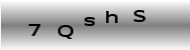7: (27, 23, 41, 37)
Q: (55, 24, 75, 40)
S: (132, 9, 147, 23)
h: (104, 10, 119, 24)
s: (82, 16, 96, 26)
